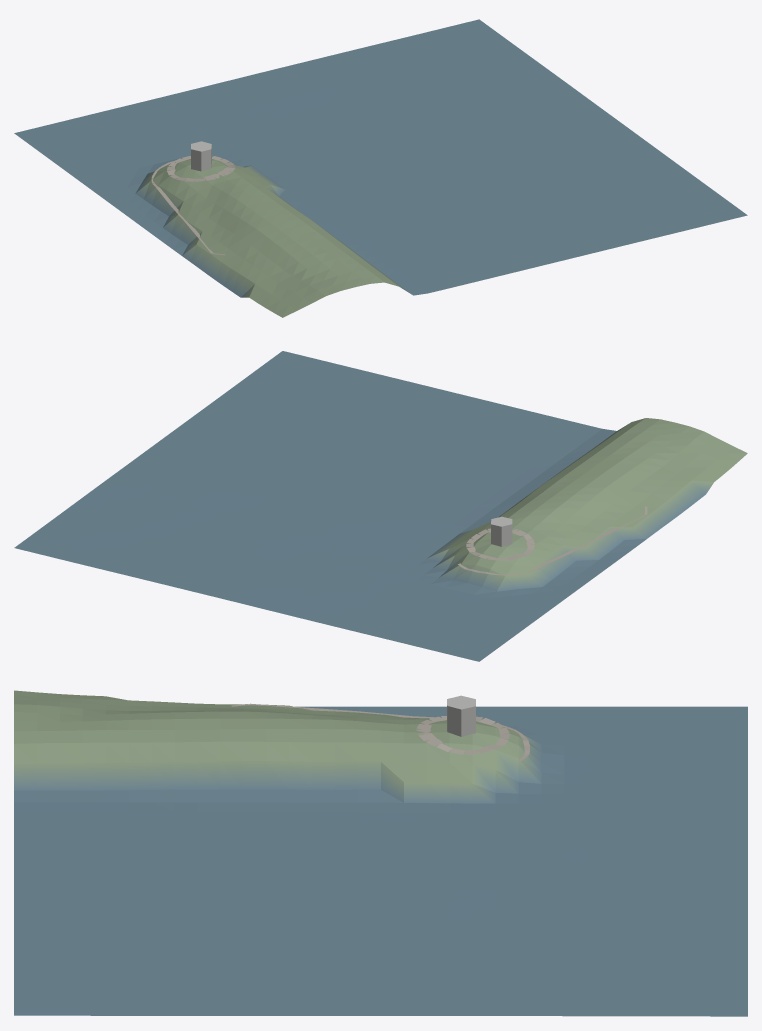
File: tile_3_-2.glb
3 views of the same model, one above another, from view 1: azimuth 30°, elevation 25°; view 2: azimuth 150°, elevation 25°; view 3: azimuth 270°, elevation 25° (orthographic). The views are drawn at different scales.
Visible parts, largest first — view 1: terrain, roads, buildings; view 2: terrain, roads, buildings; view 3: terrain, roads, buildings.
Part boxes in pixels (left/top/right/bottom): terrain: left=14, top=19, right=747, bottom=317; roads: left=151, top=156, right=235, bottom=255; buildings: left=191, top=141, right=211, bottom=171; terrain: left=14, top=351, right=747, bottom=661; roads: left=458, top=506, right=647, bottom=575; buildings: left=491, top=516, right=512, bottom=546; terrain: left=14, top=690, right=747, bottom=1016; roads: left=231, top=703, right=529, bottom=760; buildings: left=447, top=695, right=475, bottom=736.
Bounding box in the file's own units: 256 × 22.85 × 256.
